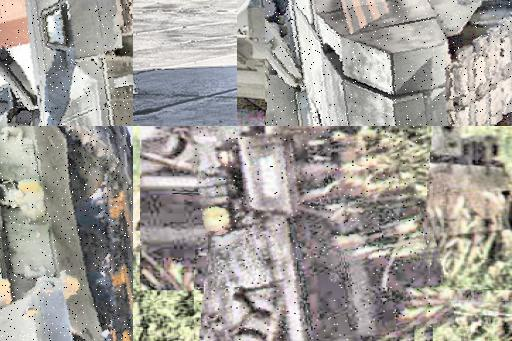tanks: (195, 128, 434, 341), (267, 1, 512, 127), (1, 127, 129, 341), (1, 1, 134, 127), (505, 253, 512, 271)
